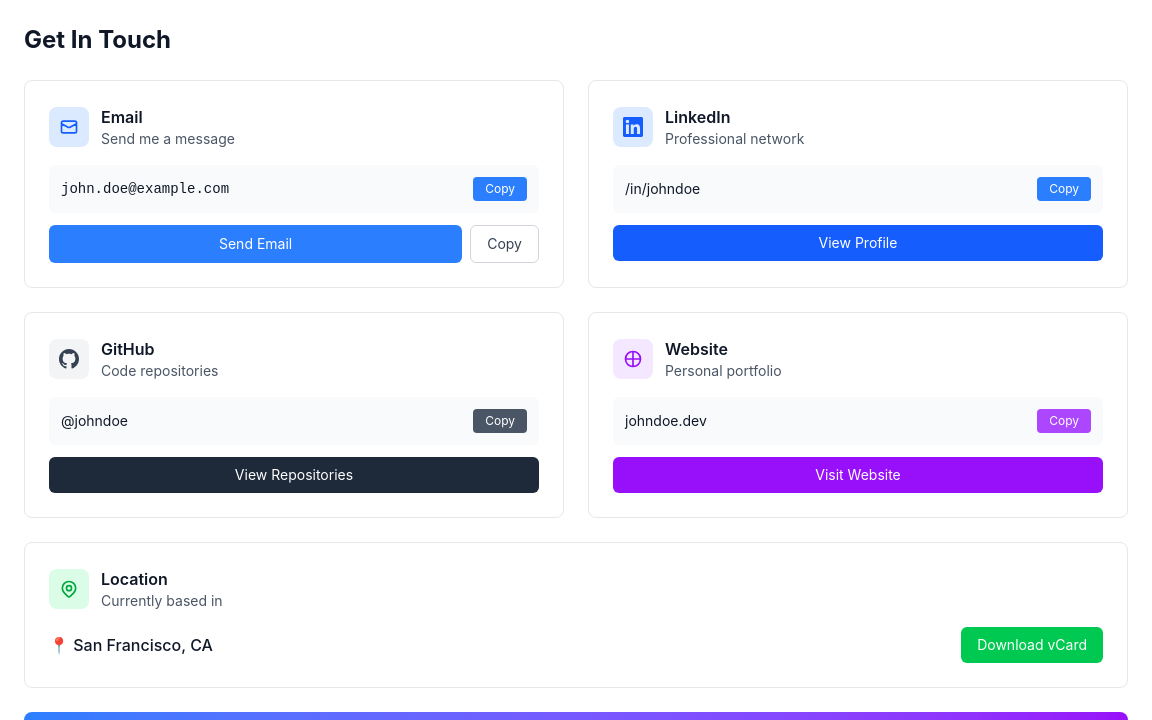
Test case: ContactSection › should copy LinkedIn URL to clipboard
Click the button titled "Copy LinkedIn URL" in the row of "/in/johndoe" at (1064, 189), box [1037,177,1091,201]
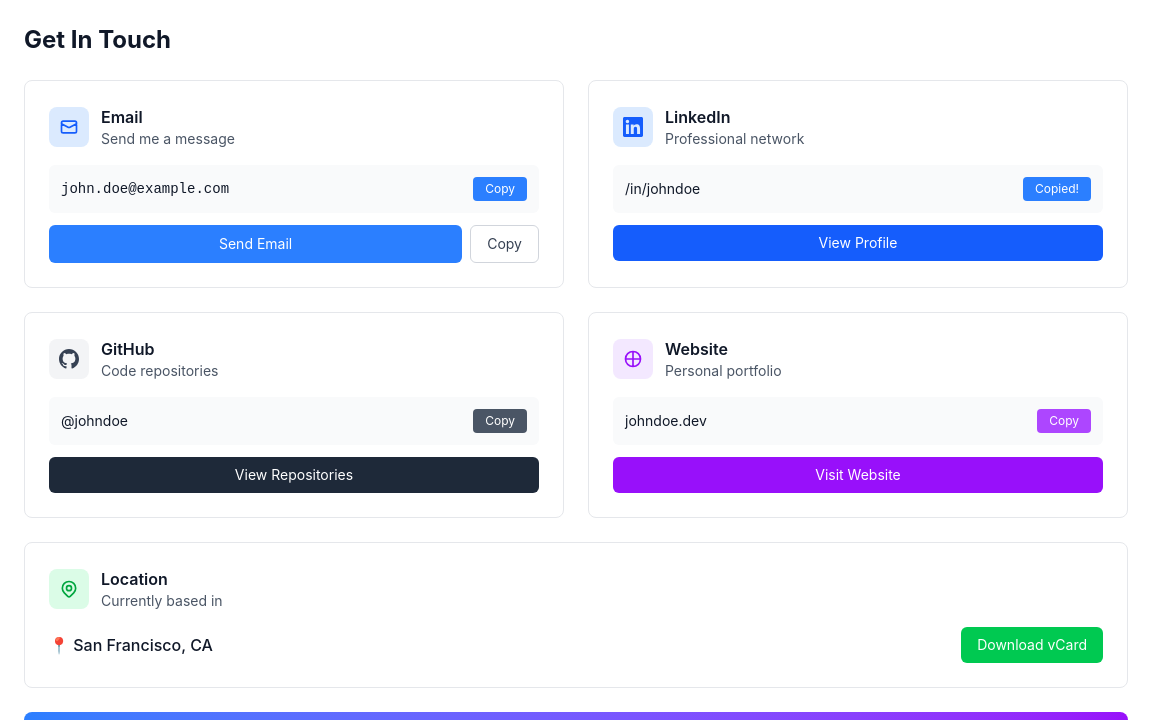
Now the button "Copied!" is shown, box [1023,177,1091,201]
